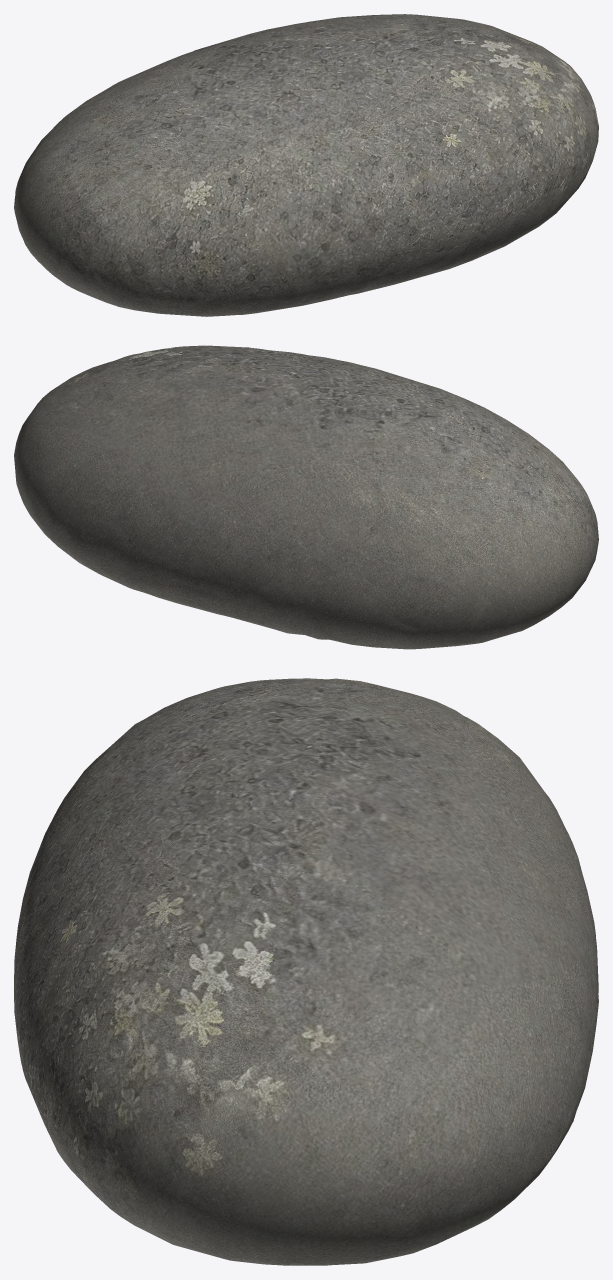
Rendered from canto.glb.
3 renders of one model, top to bottom at view 1: azimuth 30°, elevation 25°; view 2: azimuth 150°, elevation 25°; view 3: azimuth 270°, elevation 25°, orthographic. The views are drawn at different scales.
Parts seen in each view (by area): view 1: aligerado; view 2: aligerado; view 3: aligerado.
Boxes of the visible parts, left/top/right/bottom form: aligerado: left=14, top=14, right=598, bottom=316; aligerado: left=14, top=345, right=598, bottom=649; aligerado: left=14, top=678, right=598, bottom=1265.
Bounding box in the file's own units: 1.27 × 0.45 × 0.7129.
Materials: 1 (1 with a texture image).
